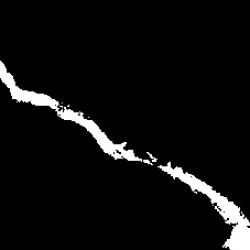crack: (1, 60, 250, 248)
